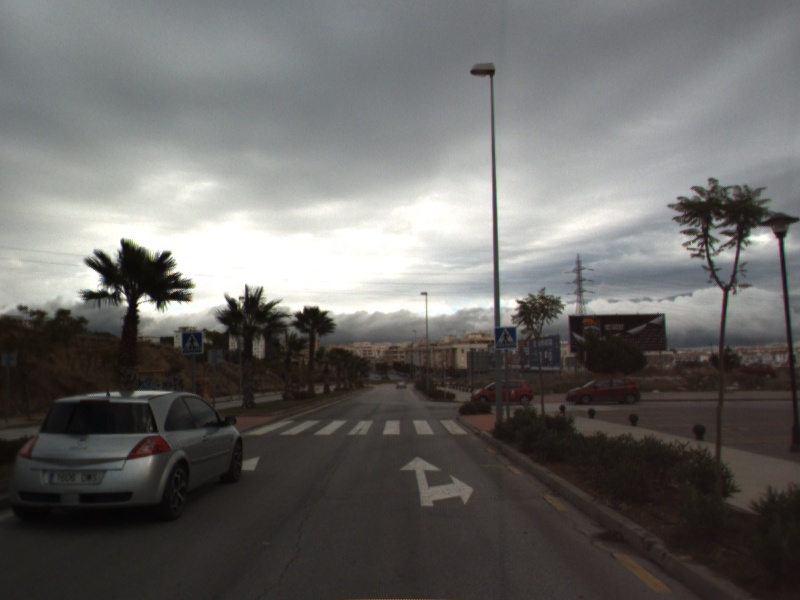STRAIGHT_RIGHT: (397, 454, 475, 509)
